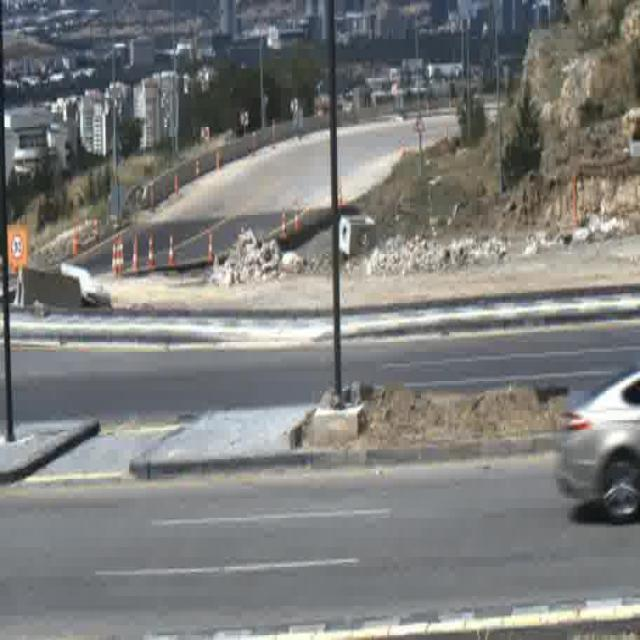Car: (551, 366, 640, 517)
